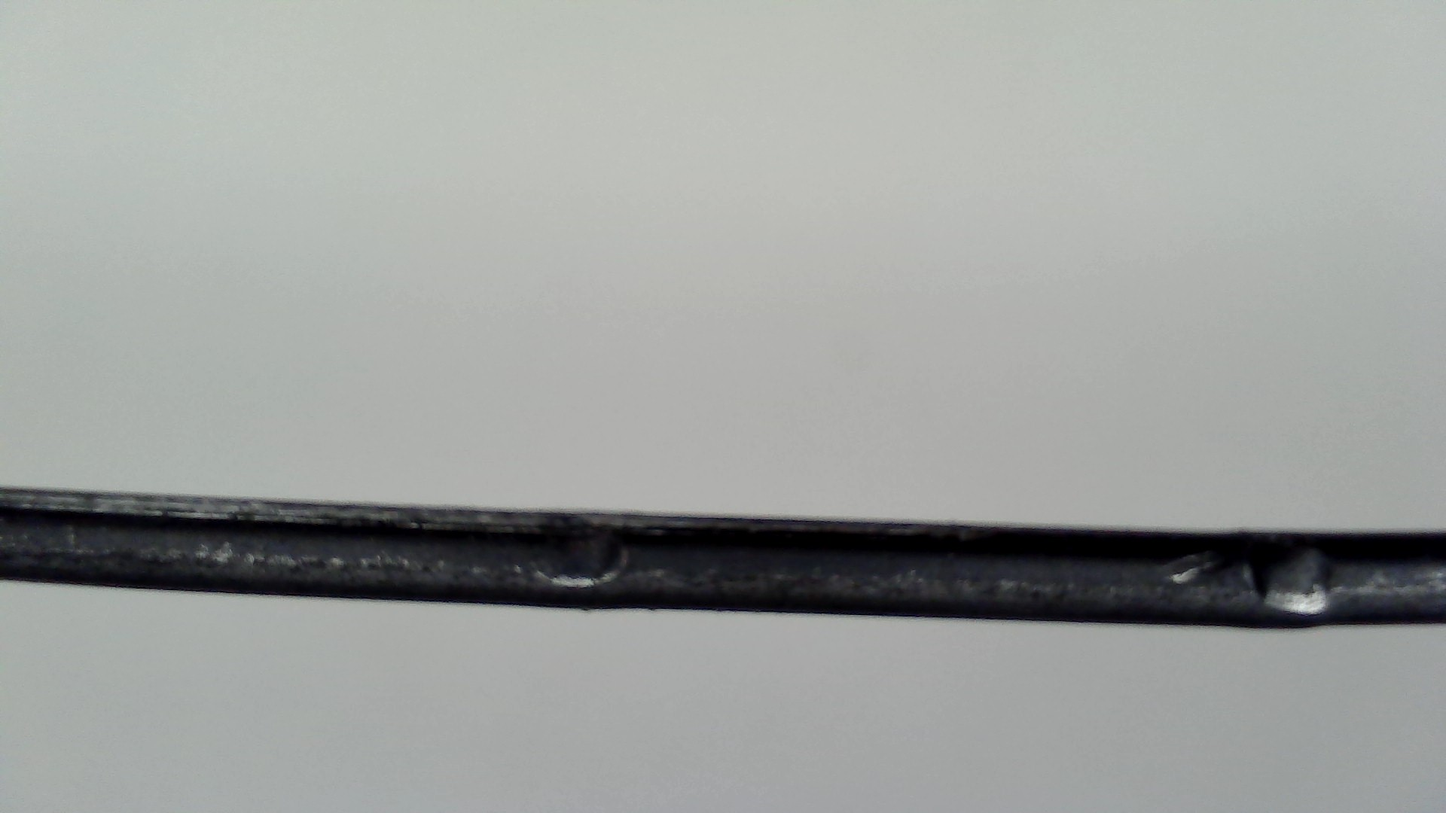defect: (1150, 531, 1345, 610), (508, 504, 633, 581)
